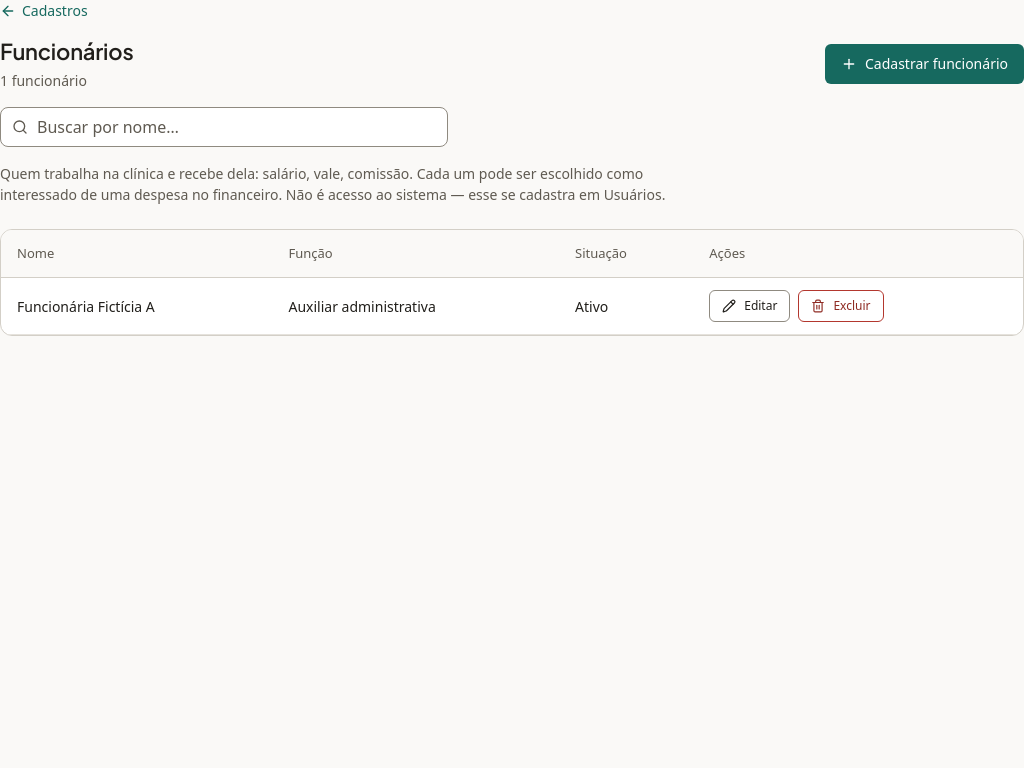
Test: Funcionários — cadastrar a recepcionista › deve cadastrar com nome e função e mostrá-la na lista
Expected: the cell "Funcionária Fictícia A" is shown, left=1, top=278, right=272, bottom=335
Click the button "Cadastrar funcionário": [924, 64] box left=825, top=44, right=1023, bottom=84
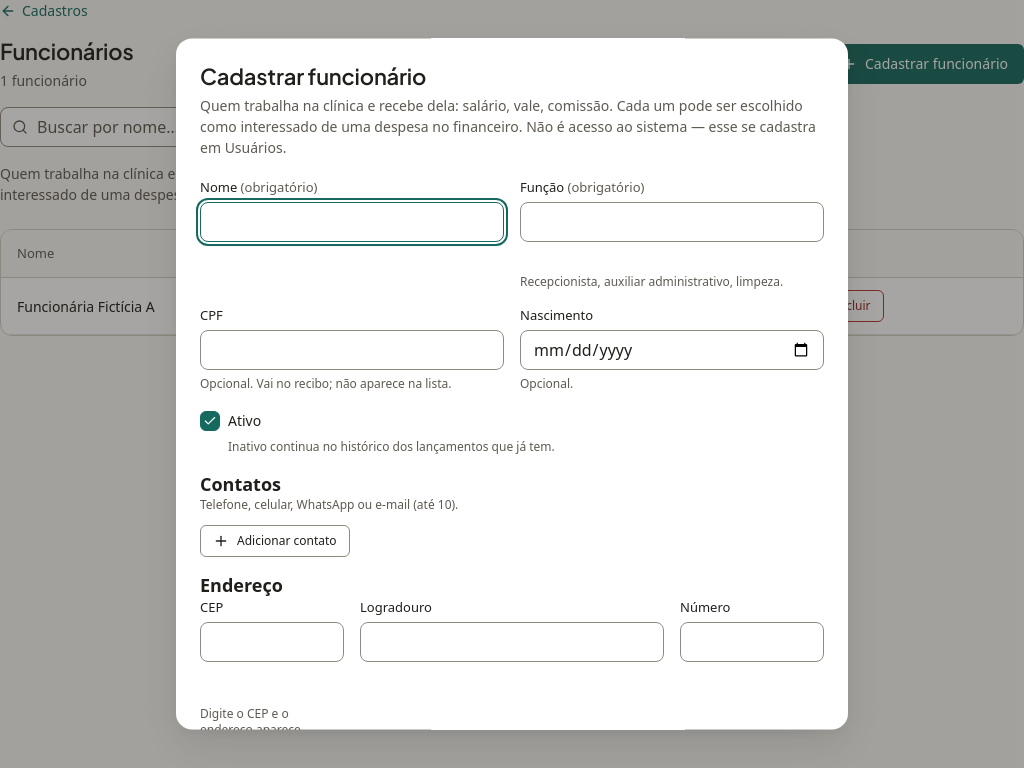
In the field labelled "Nome (obrigatório)": [352, 222] box left=200, top=202, right=504, bottom=242, type "Recepcionista Fictícia B"
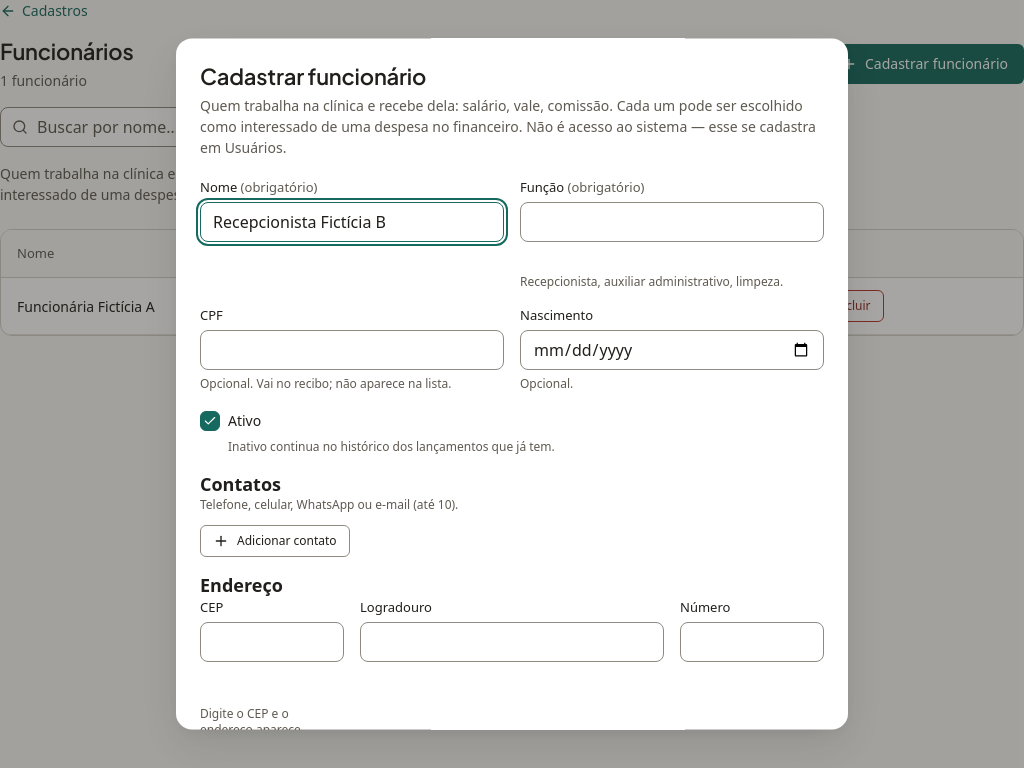
In the field labelled "Função (obrigatório)": [672, 222] box left=520, top=202, right=824, bottom=242, type "Recepcionista"
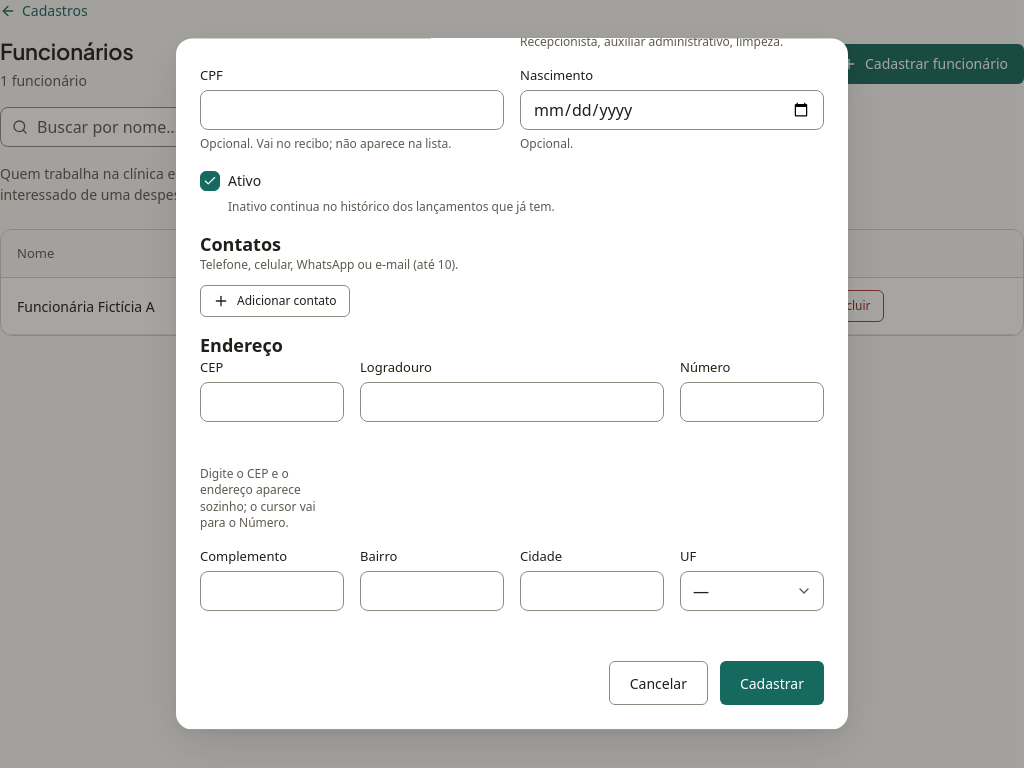
Click the button "Cadastrar": [772, 684] box left=720, top=662, right=824, bottom=706
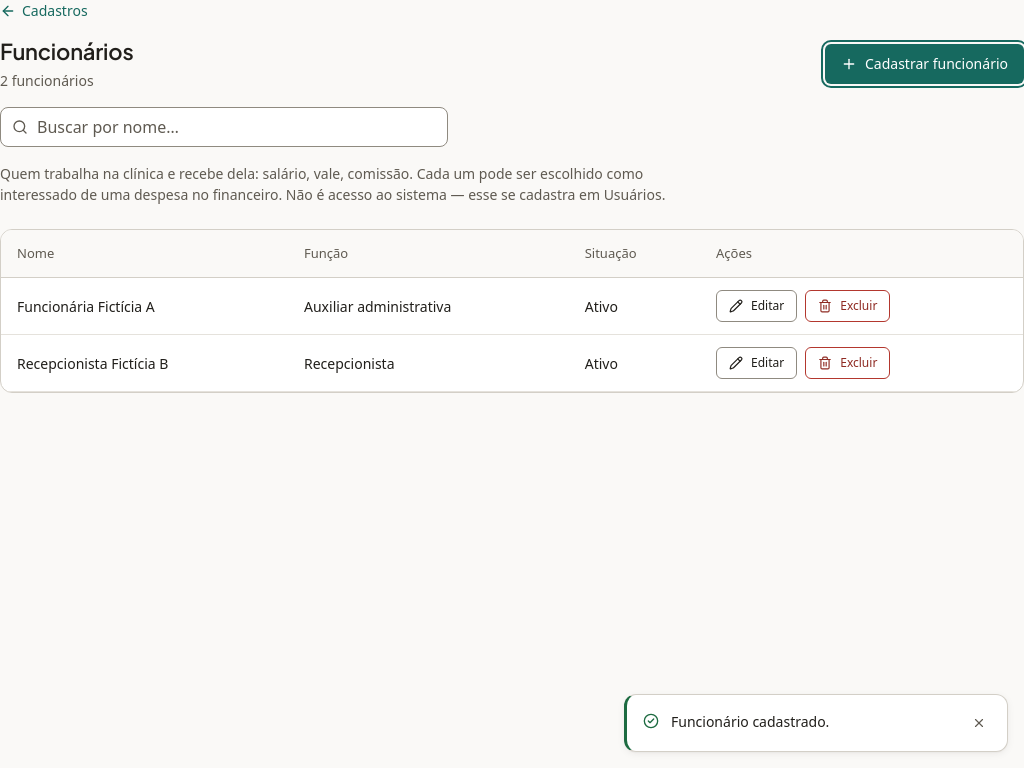
Expected: the cell "Recepcionista Fictícia B" is shown, left=1, top=335, right=288, bottom=392
